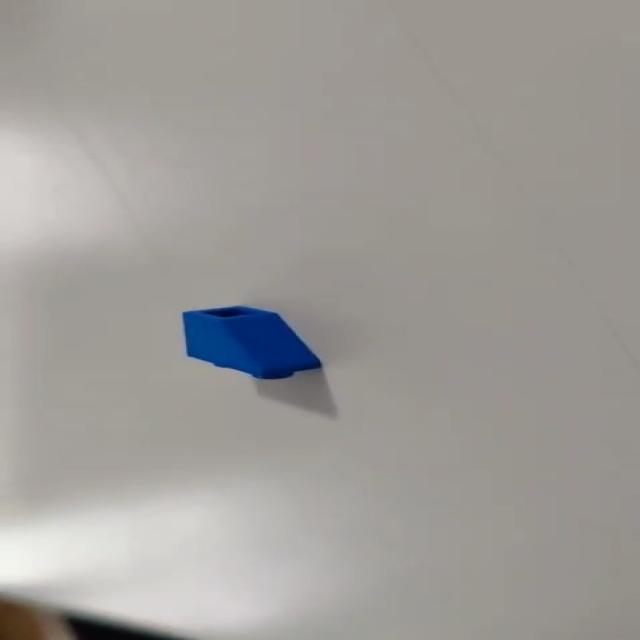X1x2x1: (174, 303, 333, 387)
